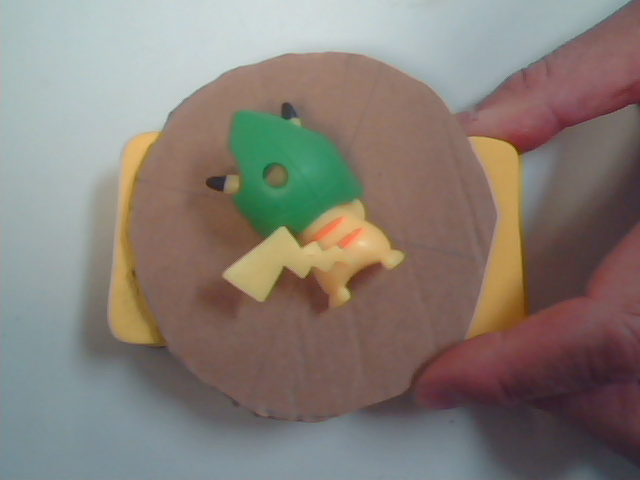pikachu: (178, 102, 431, 355)
